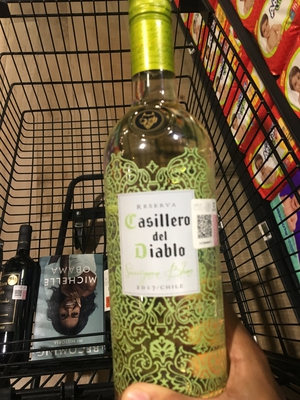casillero del diablo sauvignon blanc: (97, 3, 228, 400)
